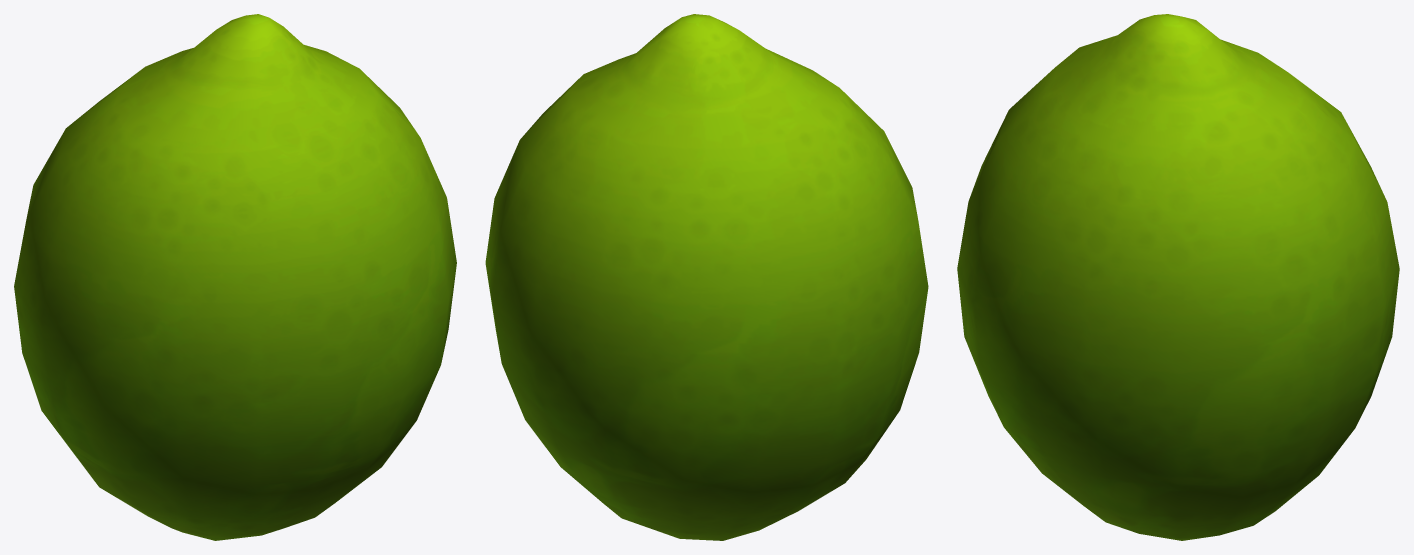
File: SM_Lime.fbx
3 renders of one model, left to right at view 1: azimuth 30°, elevation 25°; view 2: azimuth 150°, elevation 25°; view 3: azimuth 270°, elevation 25°, orthographic. The views are drawn at different scales.
Visible parts, largest first — view 1: SM_Lime; view 2: SM_Lime; view 3: SM_Lime.
Part boxes in pixels (<box>): SM_Lime: <box>14,14,456,540</box>; SM_Lime: <box>485,14,928,540</box>; SM_Lime: <box>957,14,1399,540</box>.
Bounding box in the file's own units: 8.72 × 10.91 × 8.44.
